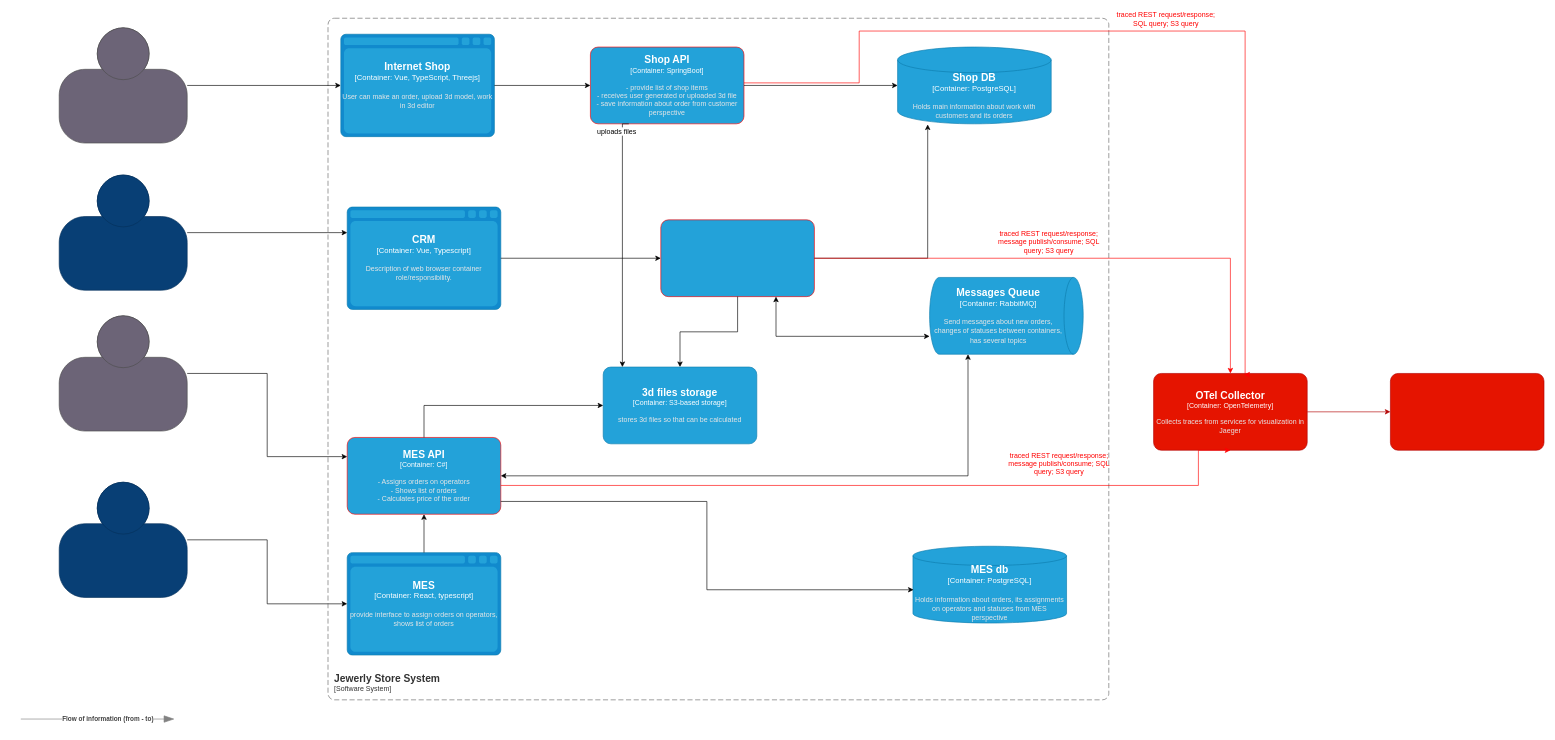
This 1555x740 diagram has some shape labels left out. Each missing label, with the centre of its shape:
"API user [Person] Description of external person." goes at point (123, 373).
"CRM API [Container: SpringBoot] Description of container role/responsibility." goes at point (737, 258).
"Customer [Person] Description of external person." goes at point (123, 85).
"Jaeger [Container: Jaeger] Visualization tool for distributed traces" goes at point (1467, 411).
"Operator [Person] Takes order in work, manufactures jewerly" goes at point (123, 539).
"Seller [Person] Operates with order, confirms manufacturing for the user" goes at point (123, 232).
